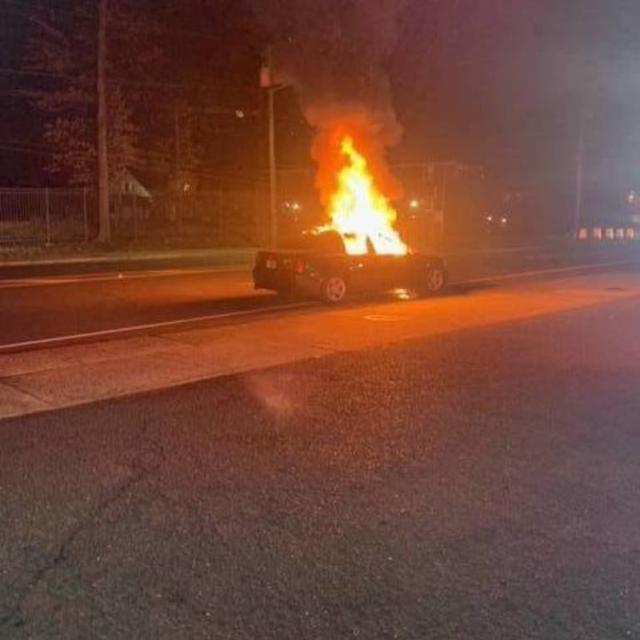Fire: (324, 136, 414, 259)
Smoke: (226, 0, 518, 207)
